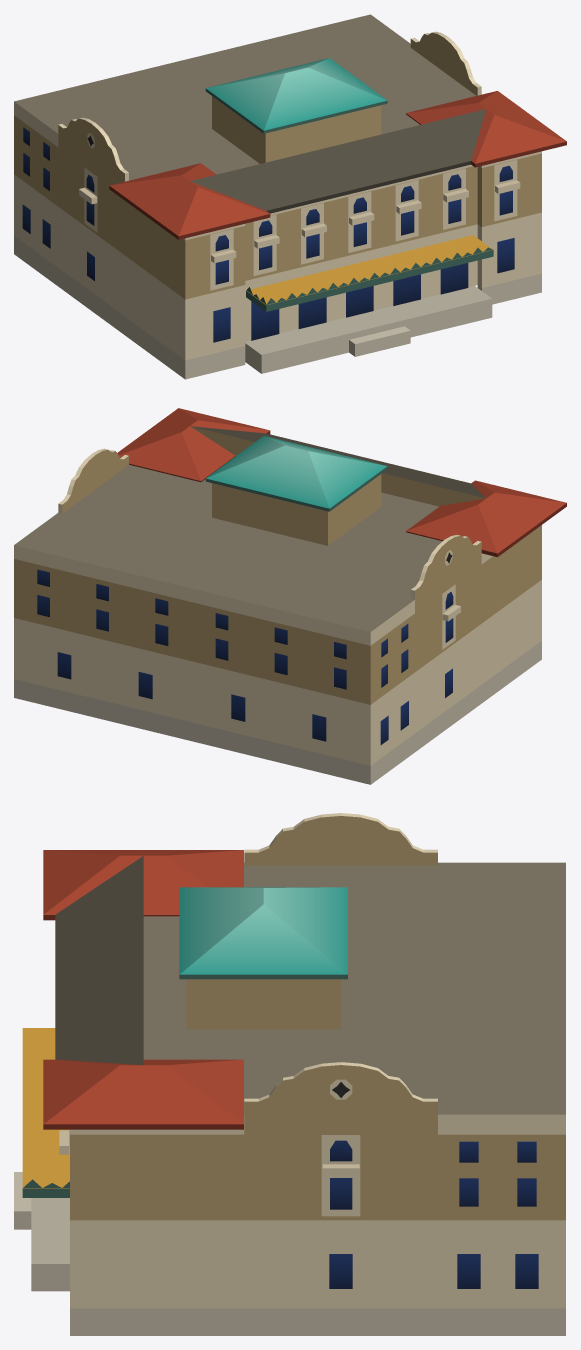
File: fordyce.glb
3 renders of one model, top to bottom at view 1: azimuth 30°, elevation 25°; view 2: azimuth 150°, elevation 25°; view 3: azimuth 270°, elevation 25°, orthographic. The views are drawn at different scales.
Parts seen in each view (by area): view 1: Fordyce; view 2: Fordyce; view 3: Fordyce.
Boxes of the visible parts, left/top/right/bottom form: Fordyce: left=14, top=14, right=566, bottom=379; Fordyce: left=14, top=408, right=566, bottom=784; Fordyce: left=14, top=813, right=565, bottom=1335.
Bounding box in the file's own units: 33.53 × 17.87 × 28.55.
